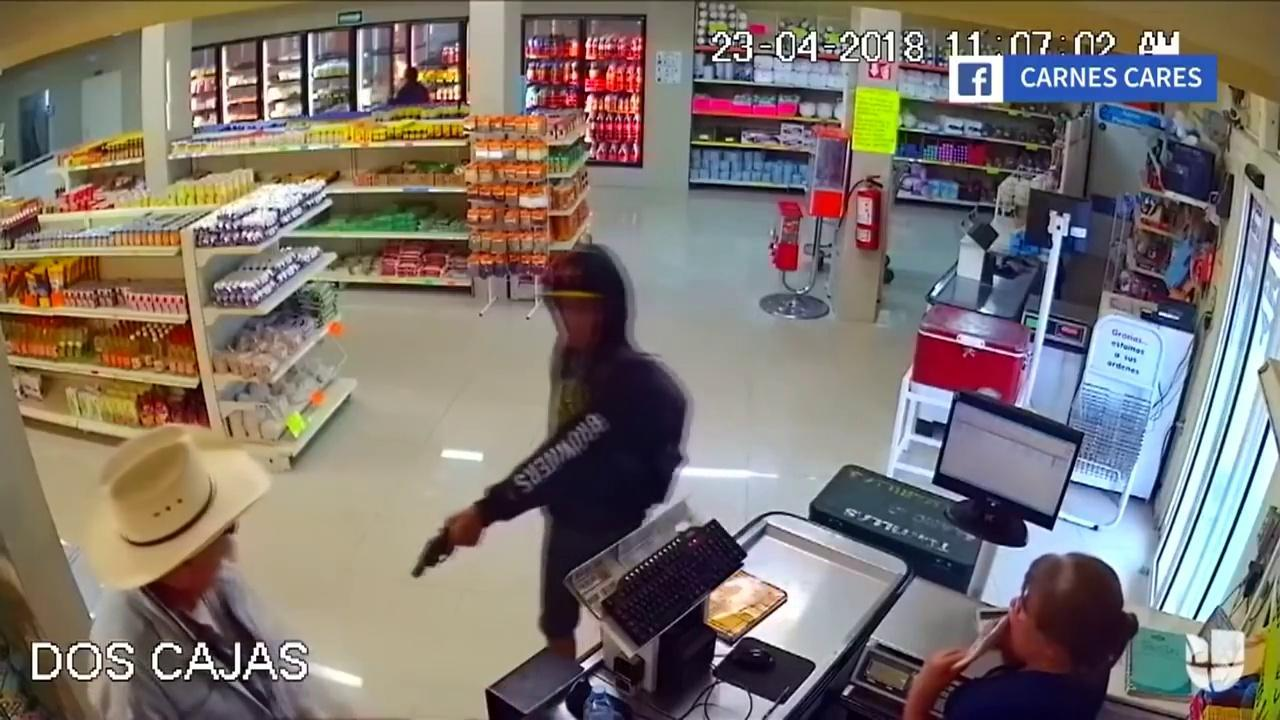Guns perspective: (397, 489, 461, 604)
